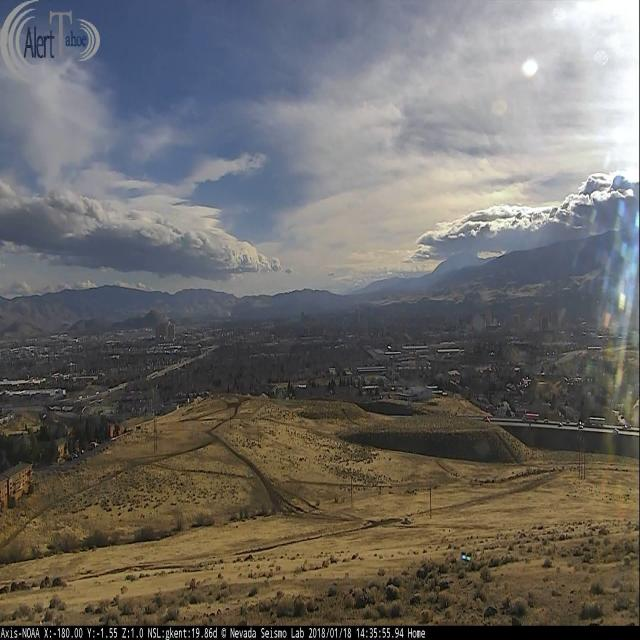smoke: (225, 309, 232, 319)
